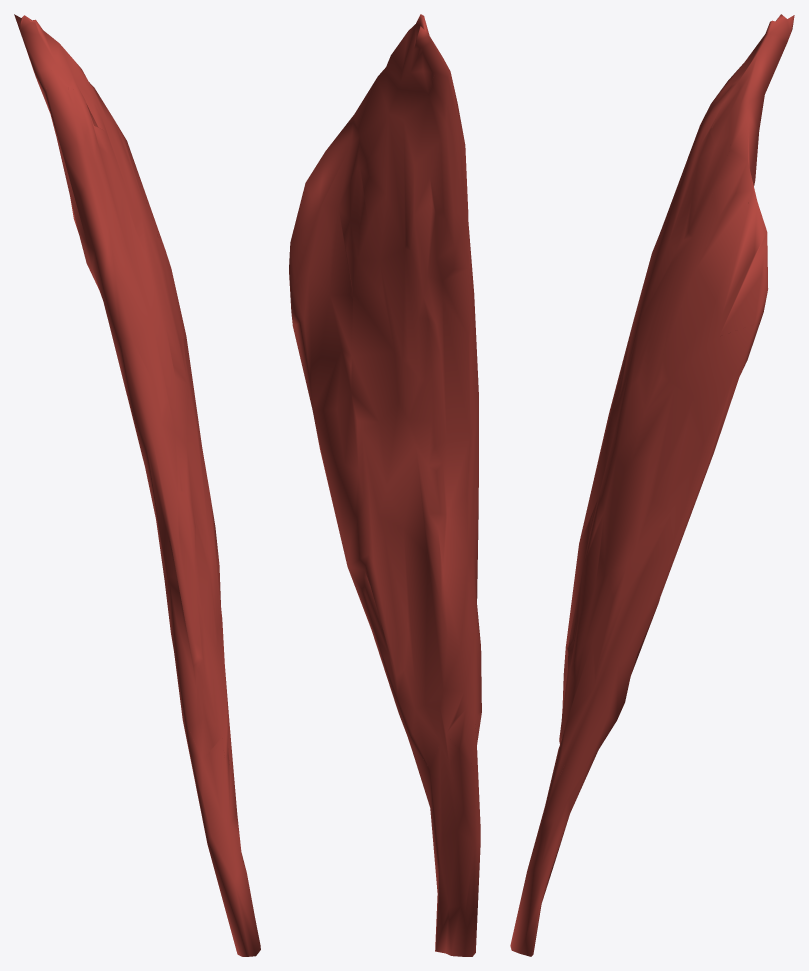
Rendered from musculos-radial-head-of-flexor-digitorum-superficialis-l.glb.
3 views of the same model, side by side, from view 1: azimuth 30°, elevation 25°; view 2: azimuth 150°, elevation 25°; view 3: azimuth 270°, elevation 25° (orthographic). The views are drawn at different scales.
Parts seen in each view (by area): view 1: Radial head of flexor digitorum superficialis.l; view 2: Radial head of flexor digitorum superficialis.l; view 3: Radial head of flexor digitorum superficialis.l.
Part boxes in pixels (box(x1,y1,x2,y2)): Radial head of flexor digitorum superficialis.l: box(14, 14, 260, 956); Radial head of flexor digitorum superficialis.l: box(289, 14, 481, 956); Radial head of flexor digitorum superficialis.l: box(510, 14, 794, 956).
Bounding box in the file's own units: 0.0291 × 0.1849 × 0.0537.
